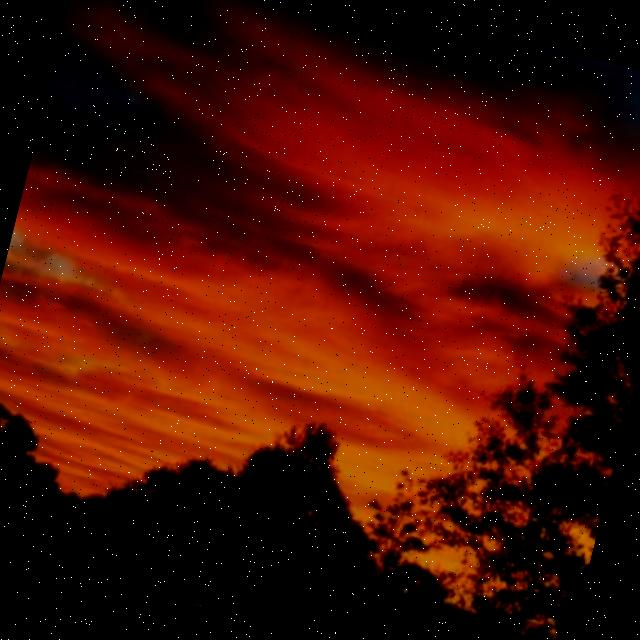As: (3, 1, 592, 399)
